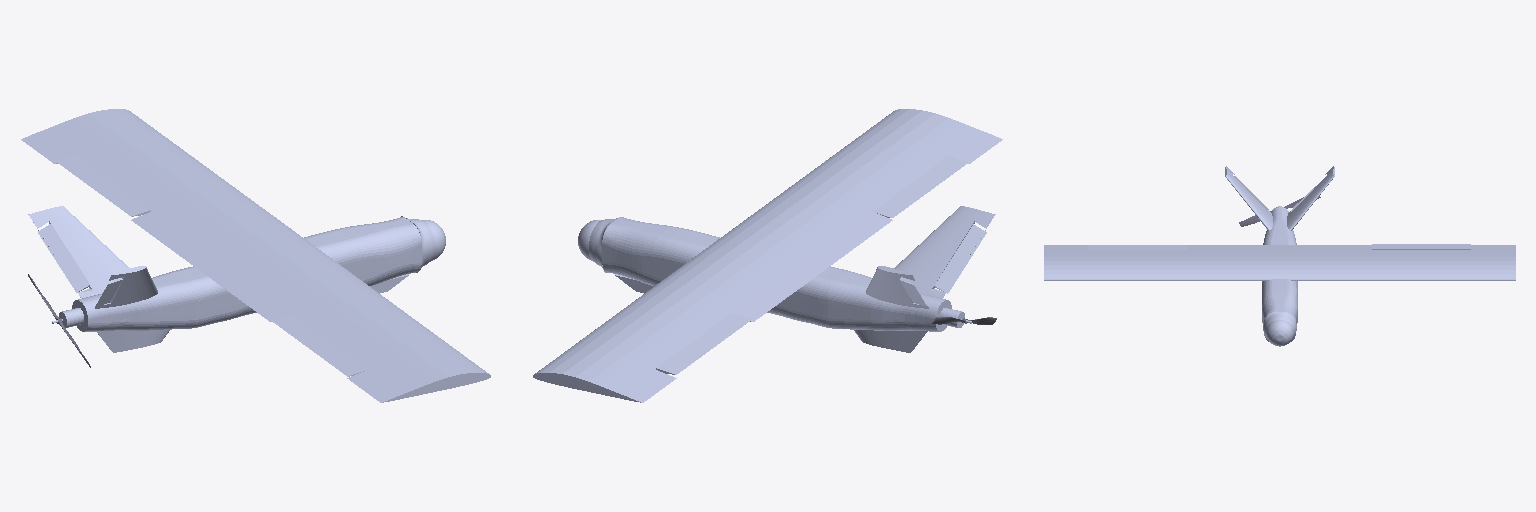
The robot description file, URDF, robot "tuygun_6":
<?xml version="1.0" encoding="utf-8"?>
<!-- This URDF was automatically created by SolidWorks to URDF Exporter! Originally created by [author] ([email redacted]) 
     Commit Version: 1.6.0-4-g7f85cfe  Build Version: 1.6.7995.38578
     For more information, please see http://wiki.ros.org/sw_urdf_exporter -->
<robot
  name="tuygun_6">
  <link
    name="base_link">
    <inertial>
      <origin
        xyz="-0.52774 2.4842E-07 0.036555"
        rpy="0 0 0" />
      <mass
        value="3.85" />
      <inertia
        ixx="3.3416"
        ixy="1.4573E-05"
        ixz="0.051393"
        iyy="1.1224"
        iyz="-8.0568E-07"
        izz="4.3966" />
    </inertial>
    <visual>
      <origin
        xyz="0 0 0"
        rpy="0 0 0" />
      <geometry>
        <mesh
          filename="package://tuygun_6/meshes/base_link.STL" />
      </geometry>
      <material
        name="">
        <color
          rgba="0.79216 0.81961 0.93333 1" />
      </material>
    </visual>
    <collision>
      <origin
        xyz="0 0 0"
        rpy="0 0 0" />
      <geometry>
        <mesh
          filename="package://tuygun_6/meshes/base_link.STL" />
      </geometry>
    </collision>
  </link>
  <link
    name="flap_front">
    <inertial>
      <origin
        xyz="-0.35 0.019333 0.0077253"
        rpy="0 0 0" />
      <mass
        value="0.24244" />
      <inertia
        ixx="4.6532E-05"
        ixy="1.1183E-20"
        ixz="-4.042E-21"
        iyy="0.0029186"
        iyz="4.2209E-20"
        izz="0.0029627" />
    </inertial>
    <visual>
      <origin
        xyz="0 0 0"
        rpy="0 0 0" />
      <geometry>
        <mesh
          filename="package://tuygun_6/meshes/flap_front.STL" />
      </geometry>
      <material
        name="">
        <color
          rgba="0.79216 0.81961 0.93333 1" />
      </material>
    </visual>
    <collision>
      <origin
        xyz="0 0 0"
        rpy="0 0 0" />
      <geometry>
        <mesh
          filename="package://tuygun_6/meshes/flap_front.STL" />
      </geometry>
    </collision>
  </link>
  <joint
    name="flap"
    type="revolute">
    <origin
      xyz="-0.64049 0.34975 0.065133"
      rpy="0 0 1.5708" />
    <parent
      link="base_link" />
    <child
      link="flap_front" />
    <axis
      xyz="0 0 1" />
    <limit
      lower="0"
      upper="0"
      effort="0"
      velocity="0" />
  </joint>
  <link
    name="flap_back">
    <inertial>
      <origin
        xyz="0.011845 -0.0075949 -0.080188"
        rpy="0 0 0" />
      <mass
        value="0.10779" />
      <inertia
        ixx="0.00016375"
        ixy="1.9817E-08"
        ixz="-1.8925E-06"
        iyy="0.00030838"
        iyz="1.9573E-08"
        izz="0.00016379" />
    </inertial>
    <visual>
      <origin
        xyz="0 0 0"
        rpy="0 0 0" />
      <geometry>
        <mesh
          filename="package://tuygun_6/meshes/flap_back.STL" />
      </geometry>
      <material
        name="">
        <color
          rgba="0.79216 0.81961 0.93333 1" />
      </material>
    </visual>
    <collision>
      <origin
        xyz="0 0 0"
        rpy="0 0 0" />
      <geometry>
        <mesh
          filename="package://tuygun_6/meshes/flap_back.STL" />
      </geometry>
    </collision>
  </link>
  <joint
    name="flap(1)"
    type="revolute">
    <origin
      xyz="-1.0135 -0.046902 0.068771"
      rpy="-2.7432 -0.74466 -1.8487" />
    <parent
      link="base_link" />
    <child
      link="flap_back" />
    <axis
      xyz="0.67772 -0.28527 -0.67772" />
    <limit
      lower="0"
      upper="0"
      effort="0"
      velocity="0" />
  </joint>
  <link
    name="propeller_link">
    <inertial>
      <origin
        xyz="3.4177E-06 0.011432 -0.00043375"
        rpy="0 0 0" />
      <mass
        value="0.022767" />
      <inertia
        ixx="8.5098E-07"
        ixy="-5.8259E-10"
        ixz="1.3689E-09"
        iyy="0.00023506"
        iyz="3.6394E-07"
        izz="0.00023491" />
    </inertial>
    <visual>
      <origin
        xyz="0 0 0"
        rpy="0 0 0" />
      <geometry>
        <mesh
          filename="package://tuygun_6/meshes/propeller_link.STL" />
      </geometry>
      <material
        name="">
        <color
          rgba="0.5098 0.5098 0.58824 1" />
      </material>
    </visual>
    <collision>
      <origin
        xyz="0 0 0"
        rpy="0 0 0" />
      <geometry>
        <mesh
          filename="package://tuygun_6/meshes/propeller_link.STL" />
      </geometry>
    </collision>
  </link>
  <joint
    name="propeller"
    type="continuous">
    <origin
      xyz="-1.0972 0 0.025"
      rpy="-3.1416 0.38841 -1.5708" />
    <parent
      link="base_link" />
    <child
      link="propeller_link" />
    <axis
      xyz="0 1 0" />
  </joint>
</robot>

--- What the picture shows (computed from the rendered views, not written in the file) ---
The picture shows the robot from 3 angles, left to right: view 1: azimuth 30°, elevation 25°; view 2: azimuth 150°, elevation 25°; view 3: azimuth 270°, elevation 25°; orthographic projection.
Model tuygun_6 with 4 links and 3 joints (2 revolute, 1 continuous), rooted at base_link, posed all joints at 0.
Links seen in each view (by area): view 1: base_link, flap_front, flap_back; view 2: base_link, flap_front, flap_back; view 3: base_link, flap_front.
Boxes of the visible links, x1=… form: base_link: x1=21, y1=109, x2=490, y2=402; flap_front: x1=56, y1=154, x2=366, y2=376; flap_back: x1=38, y1=224, x2=122, y2=306; base_link: x1=533, y1=109, x2=1002, y2=402; flap_front: x1=656, y1=156, x2=967, y2=374; flap_back: x1=900, y1=224, x2=986, y2=306; base_link: x1=1044, y1=166, x2=1515, y2=346; flap_front: x1=1089, y1=244, x2=1470, y2=249.
Size in the robot's own frame: 1.12 by 1.8 by 0.3317 metres.
Meshes: 4 distinct files referenced, 4 mesh visuals loaded (4 binary STL).
